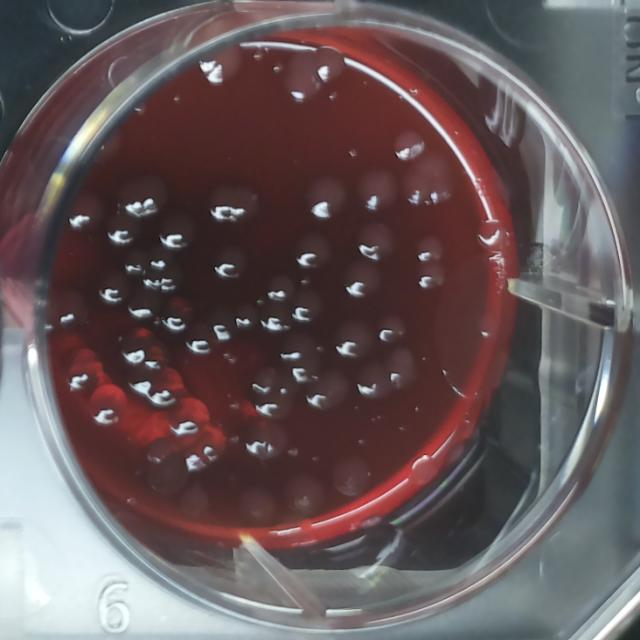Vibrio: (117, 170, 173, 220), (352, 163, 403, 217), (206, 182, 264, 228), (301, 172, 350, 223), (304, 363, 353, 414), (281, 48, 326, 102), (288, 227, 337, 275), (338, 255, 385, 304), (208, 235, 254, 285), (353, 218, 401, 265), (66, 188, 110, 238), (329, 454, 374, 502), (332, 317, 376, 363), (157, 207, 199, 253), (104, 205, 146, 251), (94, 267, 134, 308), (159, 295, 196, 334), (373, 308, 409, 346), (310, 46, 348, 82), (263, 270, 297, 305), (413, 260, 446, 293), (413, 233, 447, 264)
